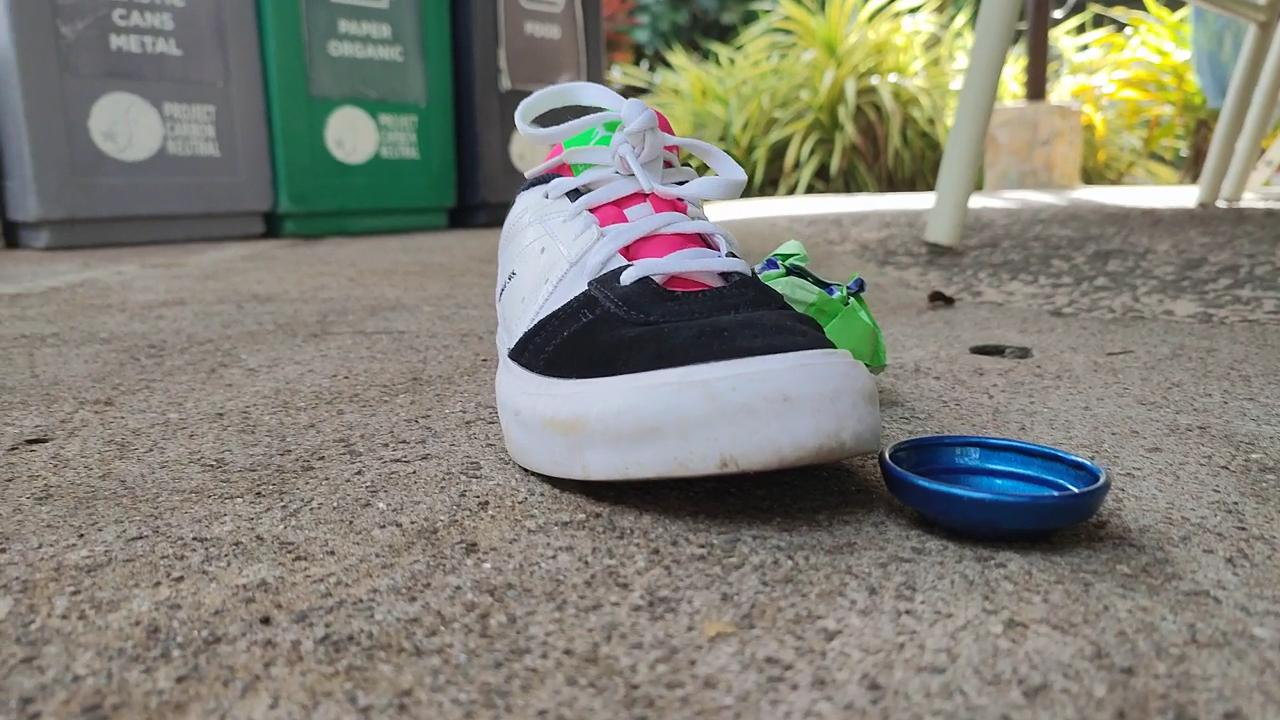Paper: (746, 230, 900, 379)
